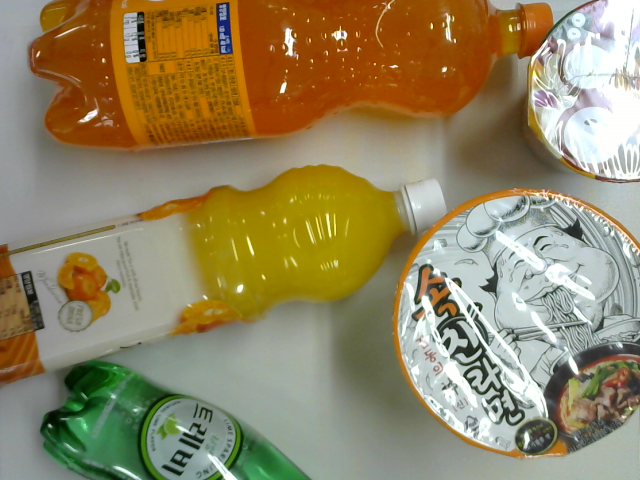Hejangchan: (389, 184, 640, 464)
Hwanta_Orange_1.5L: (28, 1, 561, 153)
Jeju_Tangerine_1.5L: (1, 159, 451, 398)
Raccoon: (521, 1, 639, 186)
Treviraim_500ml: (35, 357, 313, 480)
